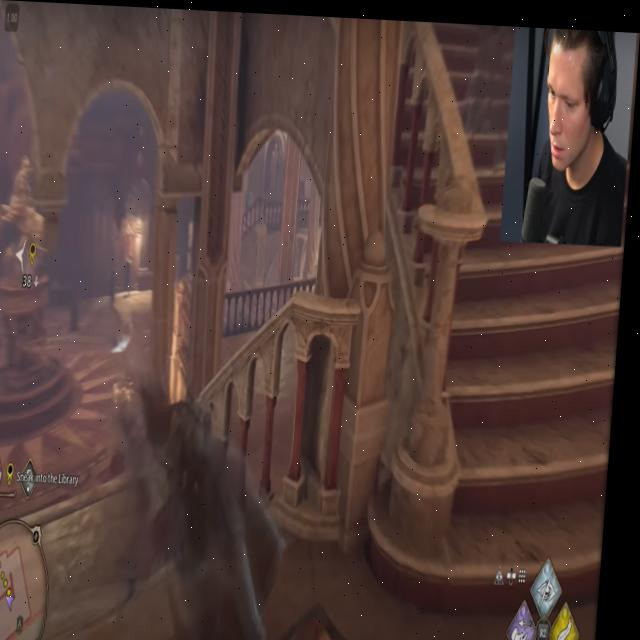compass: (32, 240, 41, 267), (13, 461, 22, 487), (0, 530, 4, 558)
